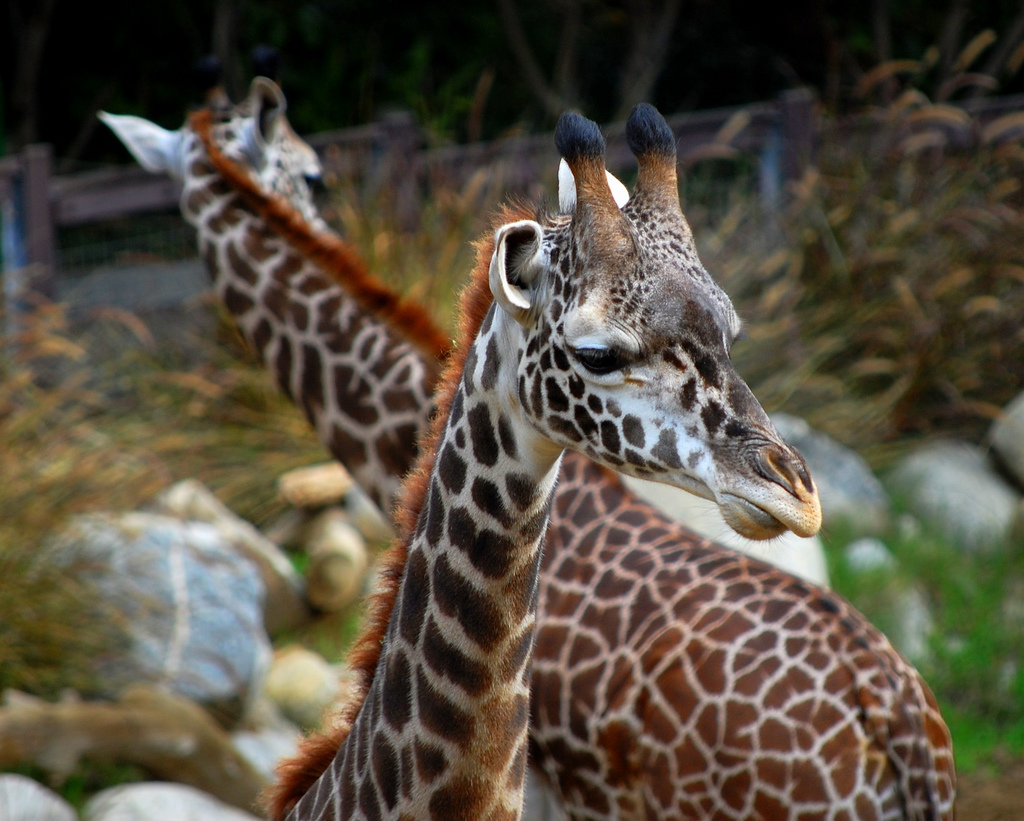giraffe: (373, 70, 830, 810), (155, 72, 500, 556)
